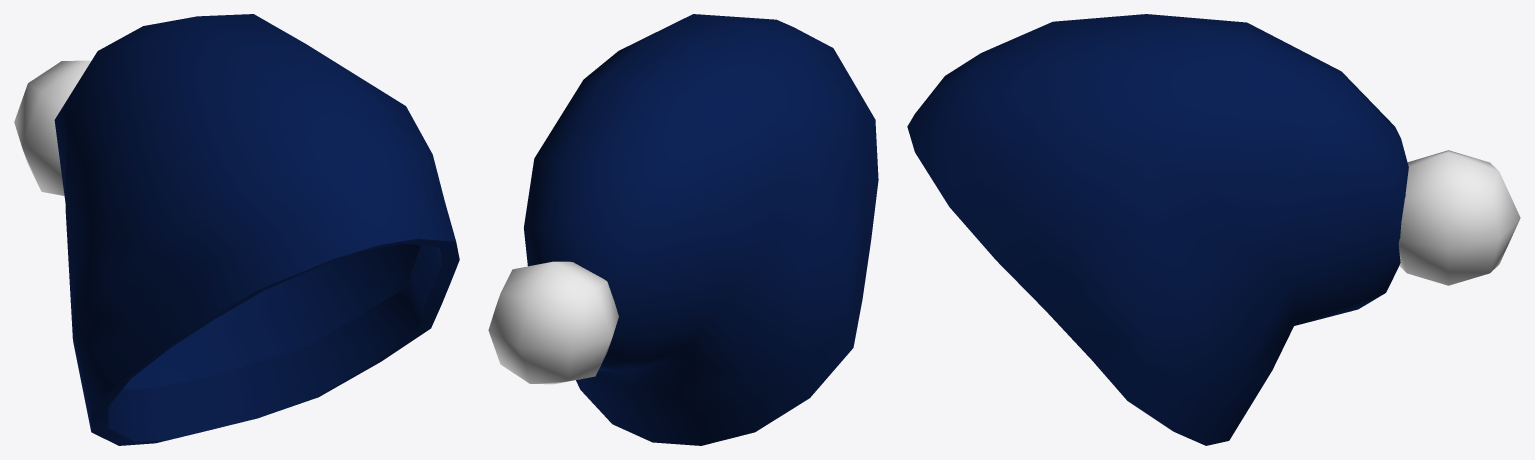
File: Hat_01.fbx
The picture shows the model from 3 angles, left to right: view 1: azimuth 30°, elevation 25°; view 2: azimuth 150°, elevation 25°; view 3: azimuth 270°, elevation 25°; orthographic projection. The views are drawn at different scales.
Parts seen in each view (by area): view 1: Hat_01; view 2: Hat_01; view 3: Hat_01.
Boxes of the visible parts, x1,y1,x2,y2 form: Hat_01: (14, 14, 459, 445); Hat_01: (488, 14, 878, 445); Hat_01: (907, 14, 1520, 445).
Size of the model in its own units: 21.23 by 24.14 by 34.41.
